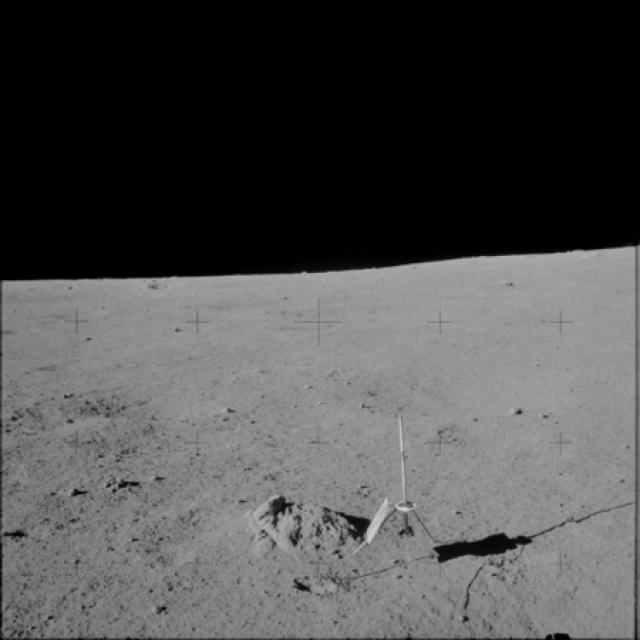crater: (315, 348, 634, 432)
rock: (226, 492, 364, 556), (102, 464, 165, 498)
